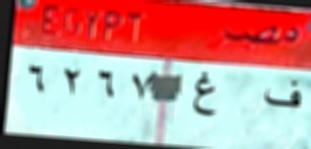2: (60, 65, 82, 101)
6: (97, 66, 117, 102), (27, 62, 47, 96)
7: (130, 69, 154, 103)
faa: (263, 76, 304, 116)
ghayn: (188, 69, 221, 125)
